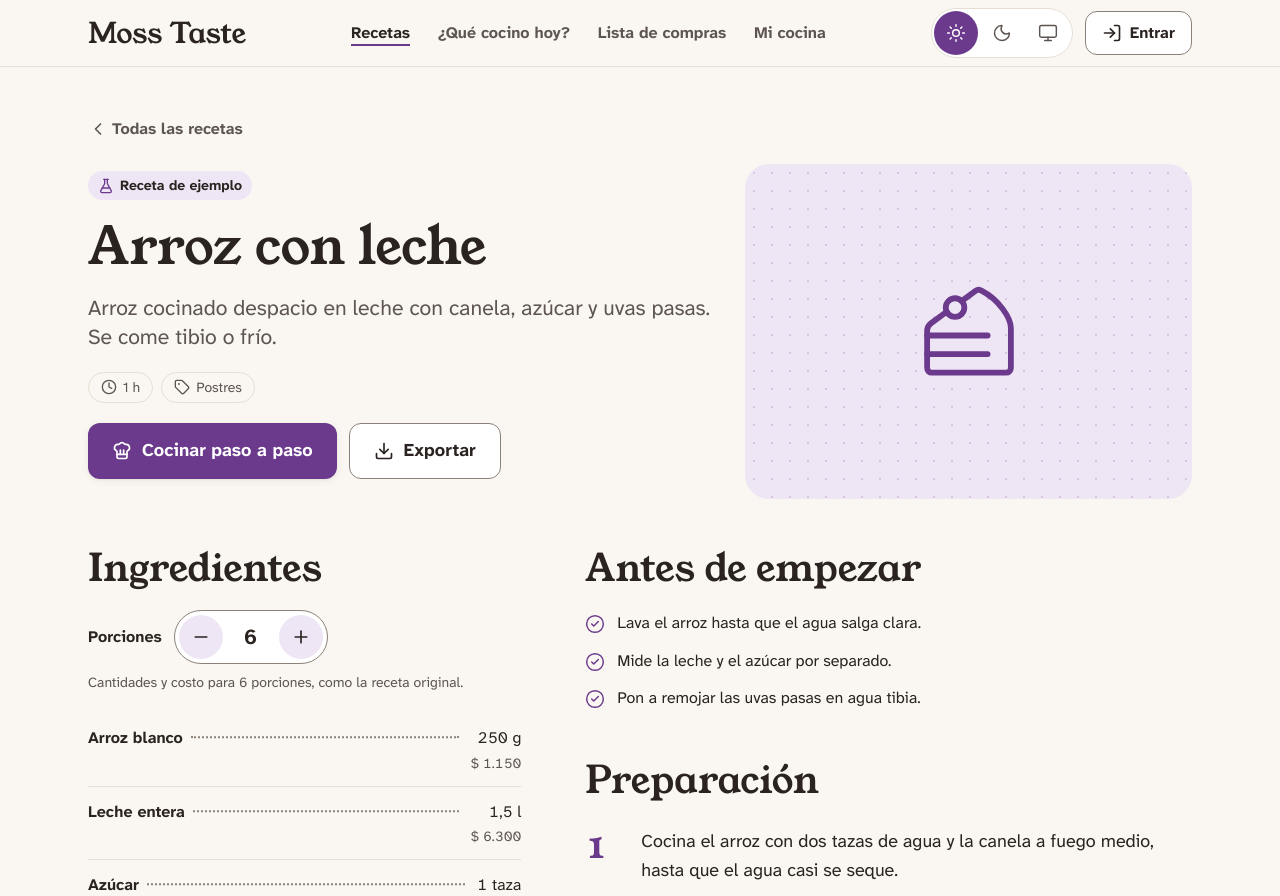
Test case: modo lectura › cambiar porciones recalcula cantidades y costo, y lo guarda en la URL
The image size is (1280, 896).
Check: the heading "Arroz con leche" is shown, box 88,210 -> 486,283
Check: the text "1,5 l" is shown, box 489,801 -> 521,822
Click the button named "Agregar una porción" at (301, 637), box 279,615 -> 323,659
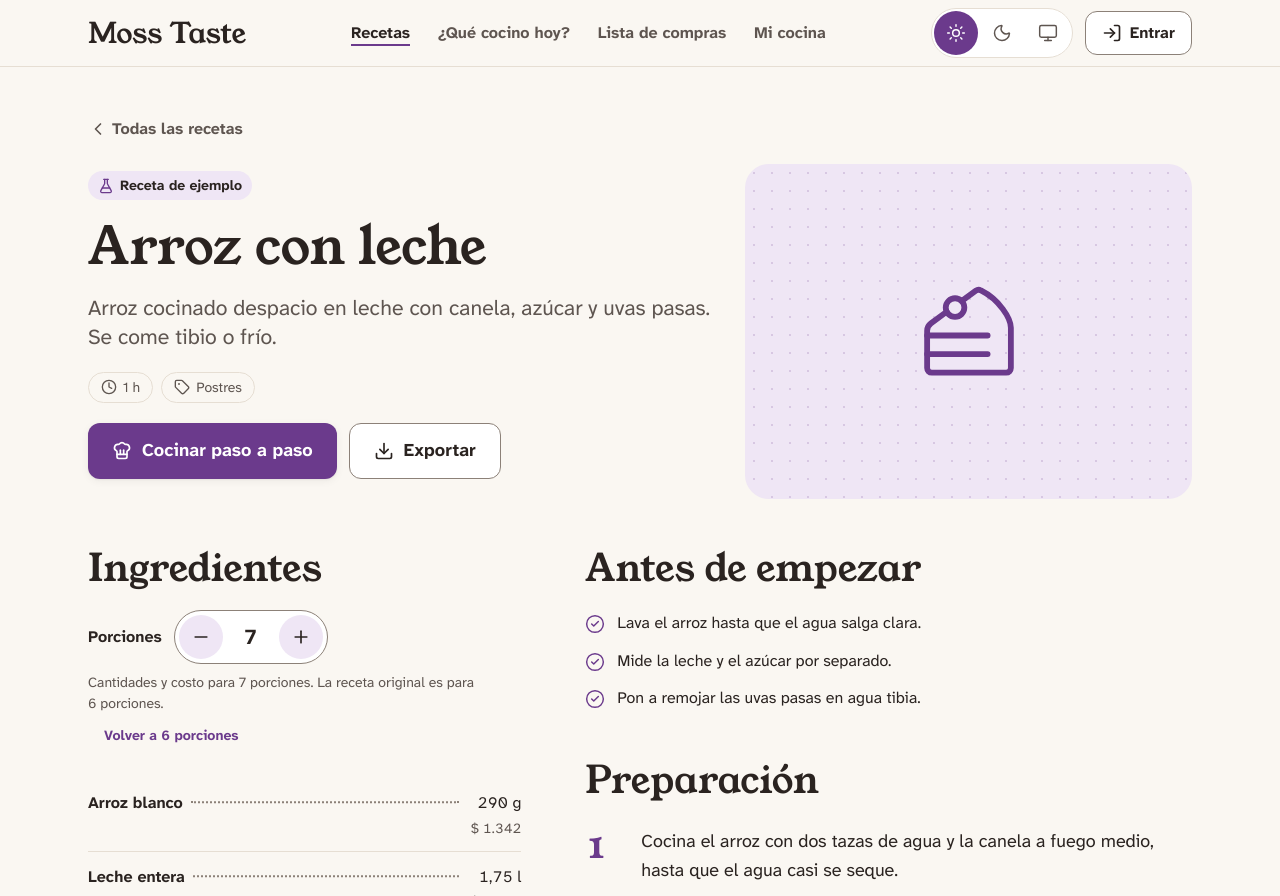
Check: the text "1,75 l" is shown, box 479,866 -> 521,887
Click the button "Volver a 6 porciones" at (171, 736), box 88,714 -> 254,758
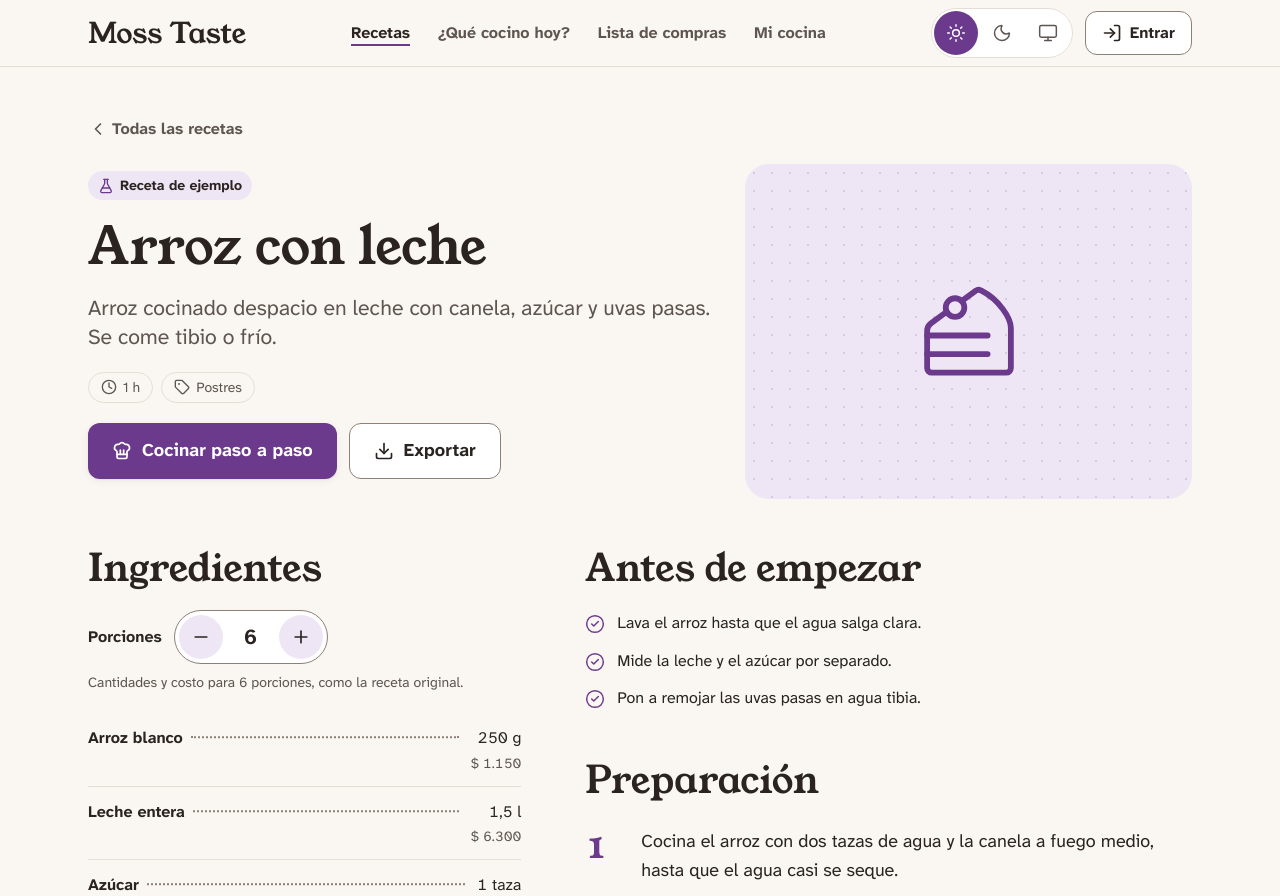
Check: the text "como la receta original" is shown, box 312,673 -> 463,691
